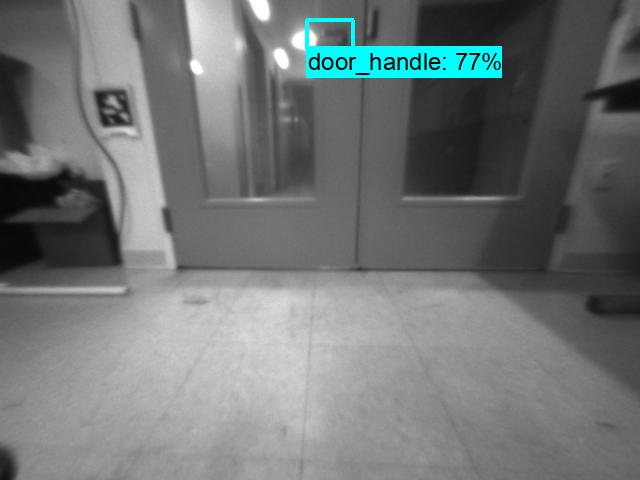door_handle: (308, 23, 355, 49)
